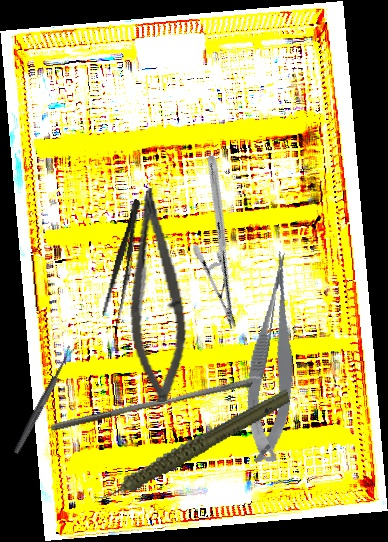Dressing Forceps: (98, 197, 148, 329)
Handpiece: (79, 386, 303, 505)
Micro Scissor: (232, 248, 318, 467), (113, 185, 195, 405)
Needle Holder: (141, 153, 303, 331)
Pusher: (49, 370, 254, 440)
Surgical Spoon: (12, 345, 76, 455)
